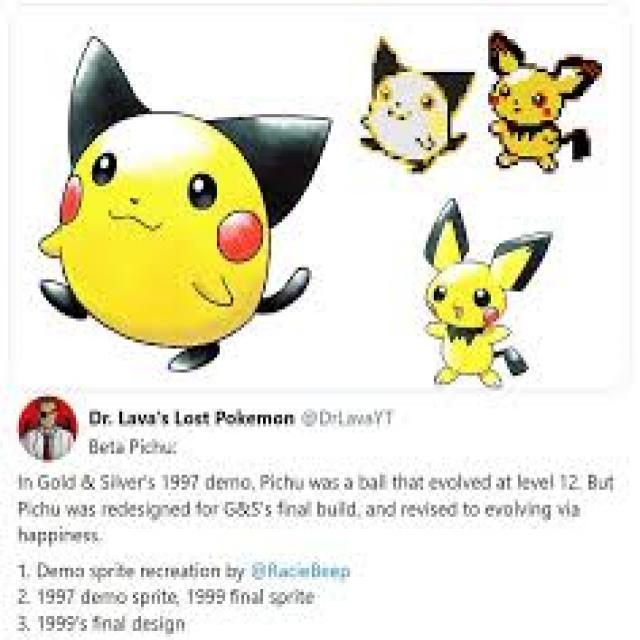pichu: (412, 198, 567, 410)
